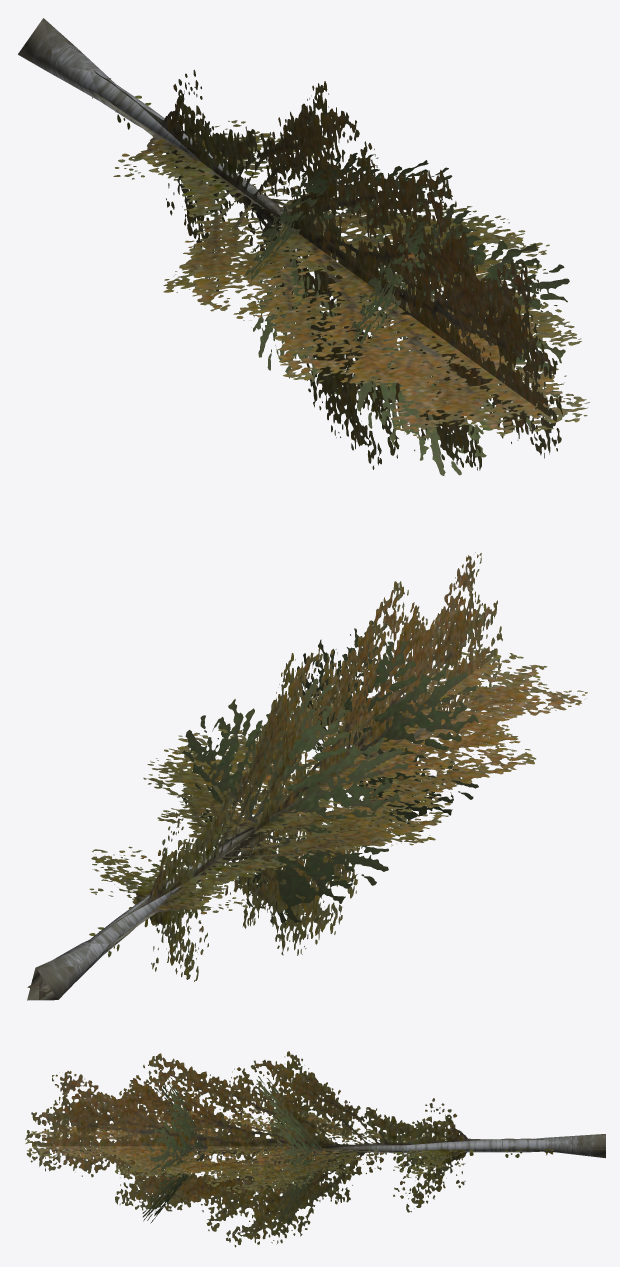
Rendered from tree_background_08.obj.
The picture shows the model from 3 angles, top to bottom: view 1: azimuth 30°, elevation 25°; view 2: azimuth 150°, elevation 25°; view 3: azimuth 270°, elevation 25°; orthographic projection. The views are drawn at different scales.
Visible parts, largest first — view 1: tree_background_08; view 2: tree_background_08; view 3: tree_background_08.
Boxes of the visible parts, <box> form: tree_background_08: <box>18,18,589,475</box>; tree_background_08: <box>27,552,587,1000</box>; tree_background_08: <box>25,1051,605,1247</box>.
Bounding box in the file's own units: 11.4 × 11.4 × 29.26.
1 material, 1 textured.
